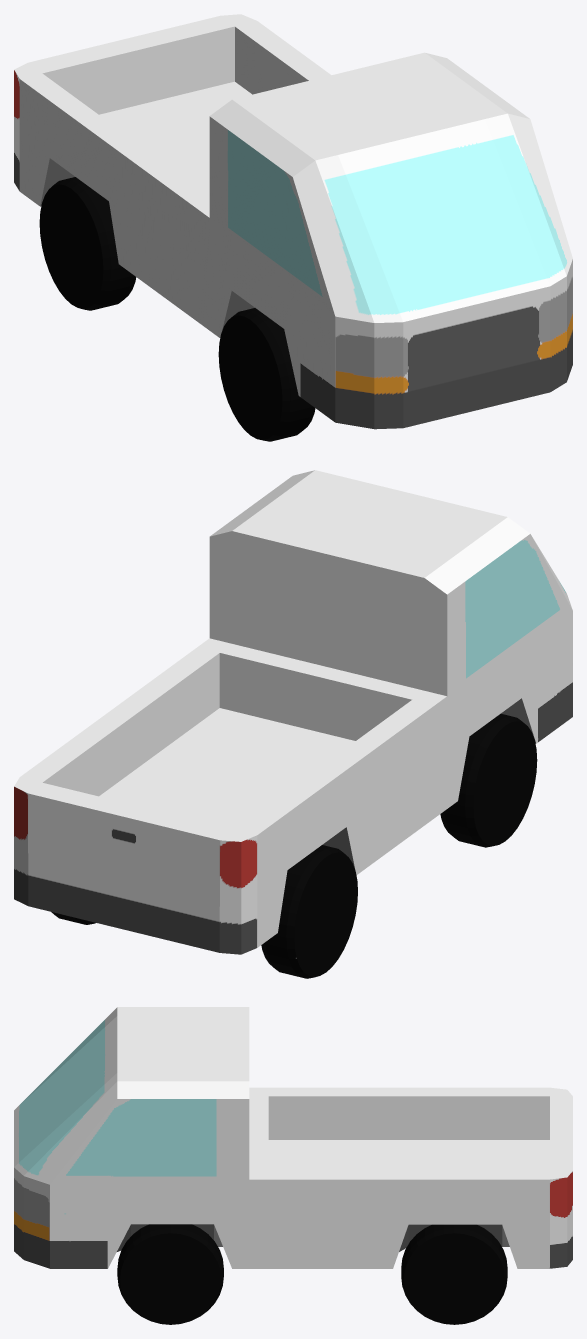
The model's file is Car1.fbx.
The picture shows the model from 3 angles, top to bottom: view 1: azimuth 30°, elevation 25°; view 2: azimuth 150°, elevation 25°; view 3: azimuth 270°, elevation 25°; orthographic projection. The views are drawn at different scales.
Visible parts, largest first — view 1: Cube; view 2: Cube; view 3: Cube.
Boxes of the visible parts, box(x1,y1,x2,y2) form: Cube: box(14, 14, 572, 441); Cube: box(14, 470, 572, 978); Cube: box(14, 1007, 572, 1324).
Size of the model in its own units: 375 by 416 by 901.
1 material, 1 textured.
